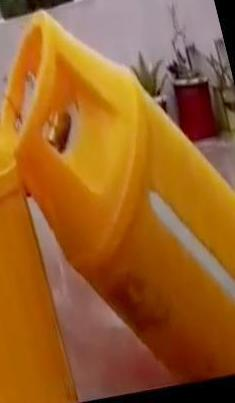cylinder: (1, 1, 235, 403)
